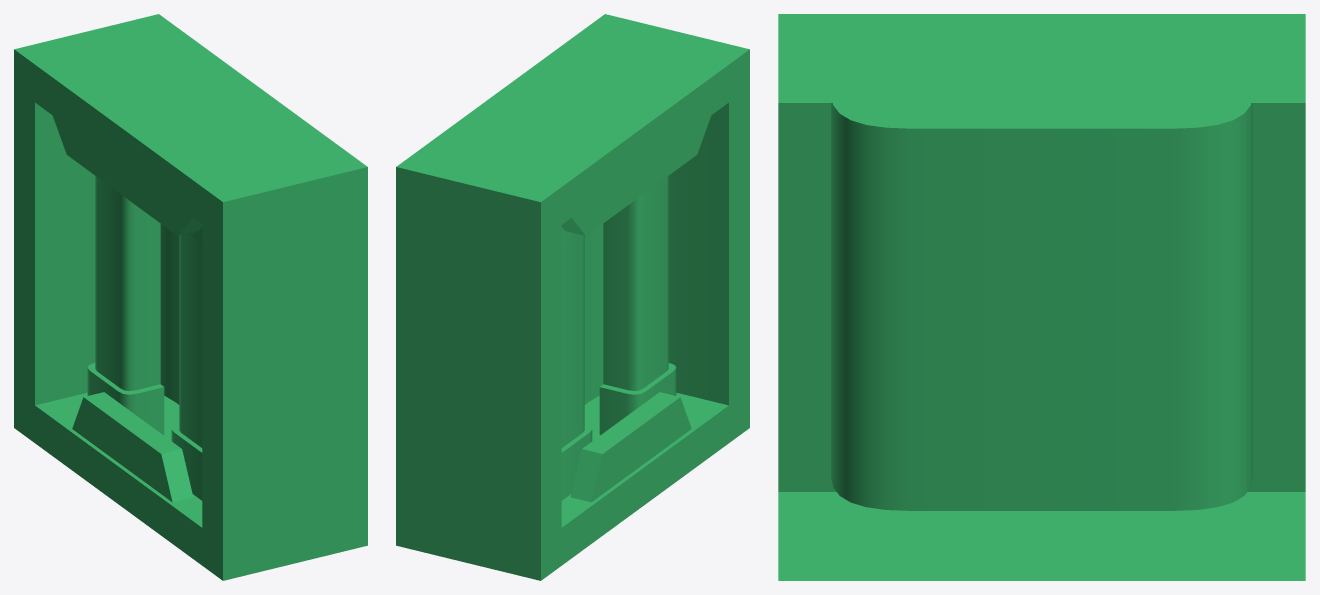
The model's file is Wall_B_1x1m.FBX.
3 views of the same model, side by side, from view 1: azimuth 30°, elevation 25°; view 2: azimuth 150°, elevation 25°; view 3: azimuth 270°, elevation 25° (orthographic). The views are drawn at different scales.
Visible parts, largest first — view 1: Wall_B_1x1m; view 2: Wall_B_1x1m; view 3: Wall_B_1x1m.
Part boxes in pixels (x1,y1,x2,y2): Wall_B_1x1m: (14, 14, 367, 580); Wall_B_1x1m: (396, 14, 749, 580); Wall_B_1x1m: (778, 14, 1305, 580).
Bounding box in the file's own units: 40 × 100 × 100.
